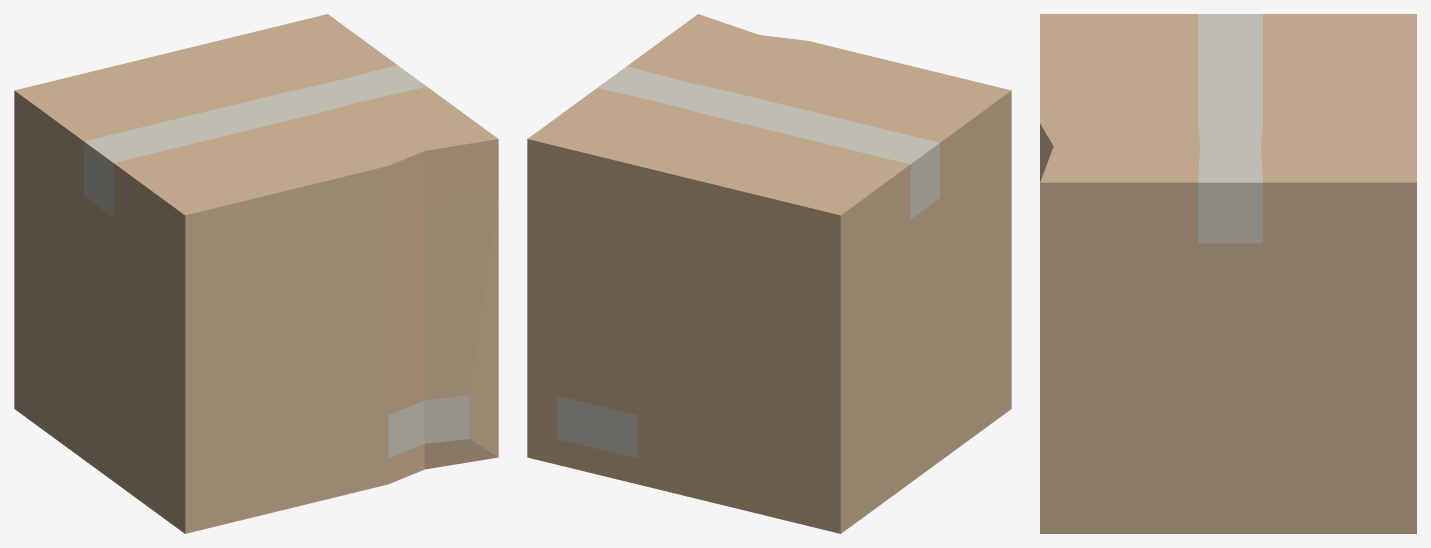
The model's file is CardboardBoxes_2.fbx.
3 views of the same model, side by side, from view 1: azimuth 30°, elevation 25°; view 2: azimuth 150°, elevation 25°; view 3: azimuth 270°, elevation 25° (orthographic). The views are drawn at different scales.
Parts seen in each view (by area): view 1: CardboardBoxes_2.001; view 2: CardboardBoxes_2.001; view 3: CardboardBoxes_2.001.
Part boxes in pixels (x1,y1,x2,y2): CardboardBoxes_2.001: [14, 14, 498, 533]; CardboardBoxes_2.001: [527, 14, 1011, 533]; CardboardBoxes_2.001: [1040, 14, 1416, 533].
Bounding box in the file's own units: 0.9755 × 0.9473 × 0.9207.
